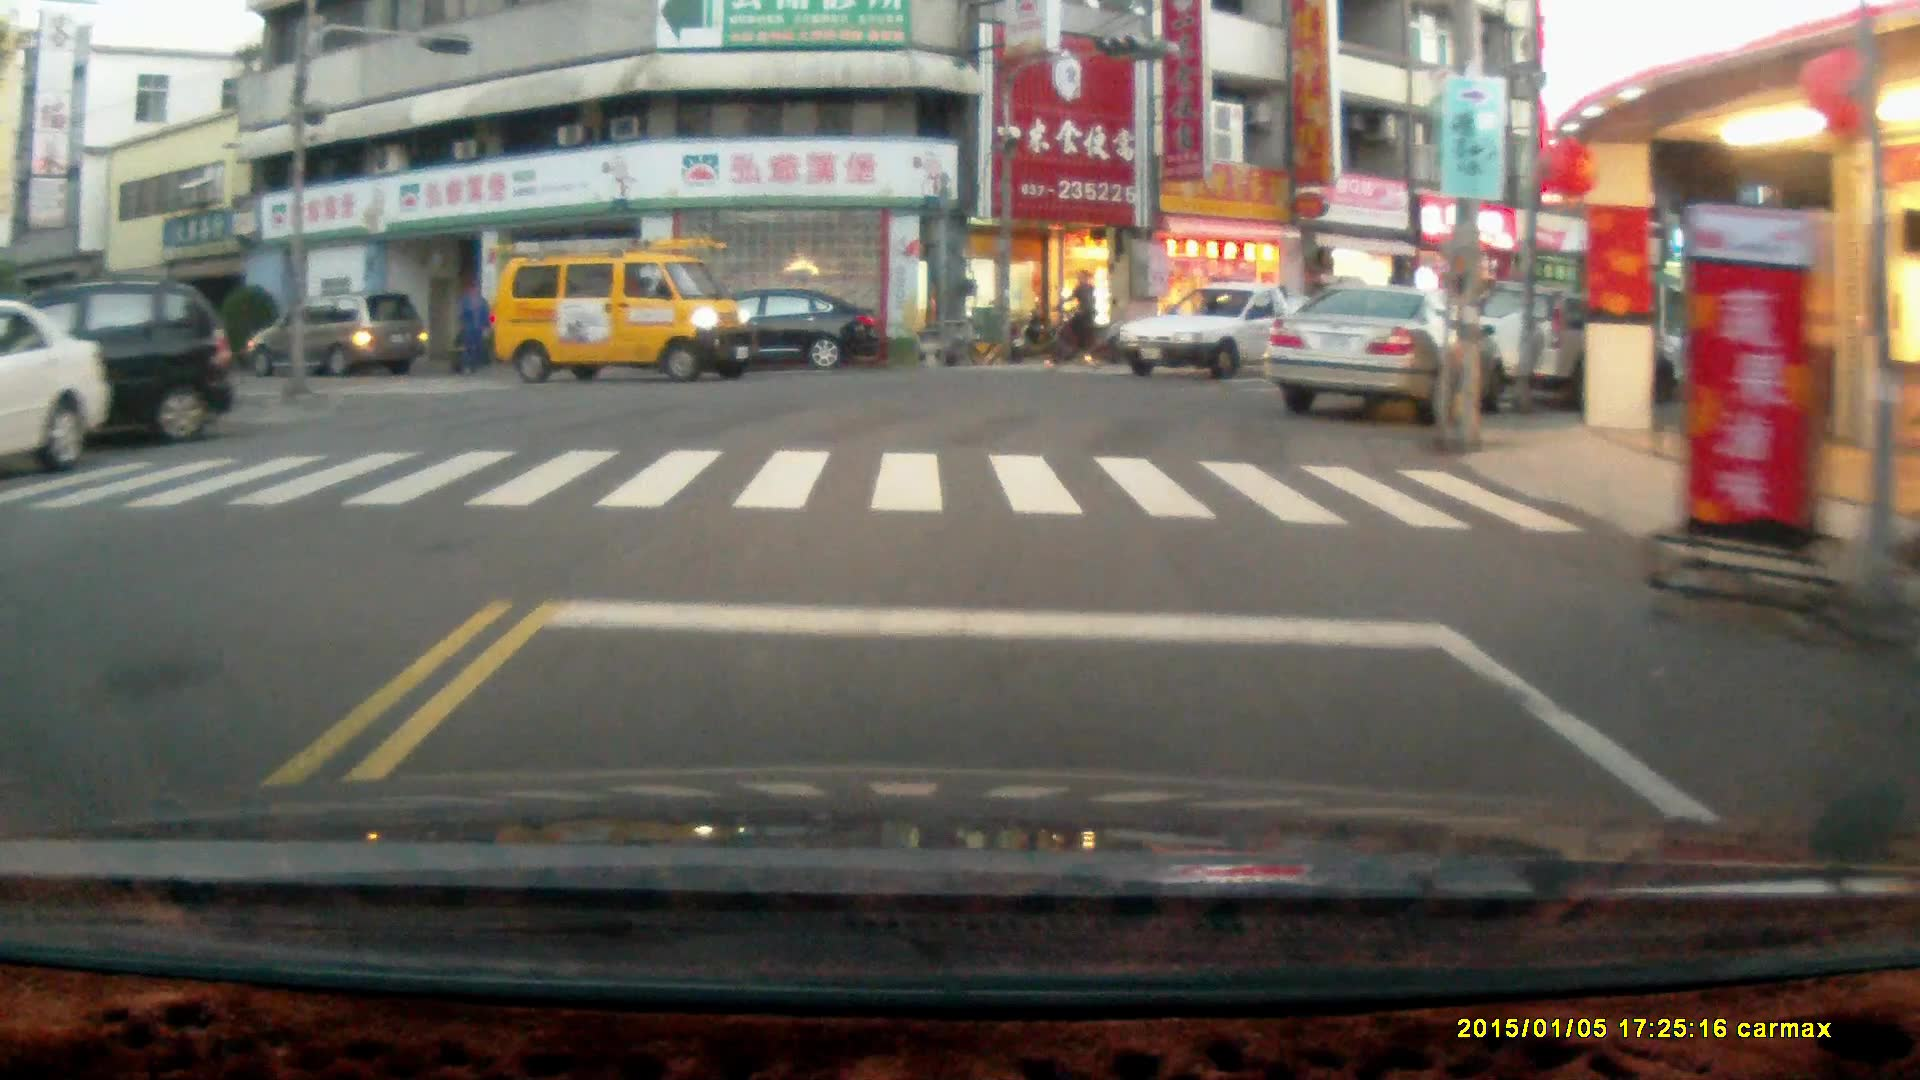pedestrian: (454, 282, 489, 372)
rider: (1035, 266, 1114, 371)
vehicle: (2, 276, 243, 457), (493, 237, 749, 387), (1262, 280, 1516, 426), (1461, 283, 1699, 413), (1115, 278, 1347, 383), (1, 305, 113, 476), (679, 288, 884, 373), (243, 295, 437, 381)
